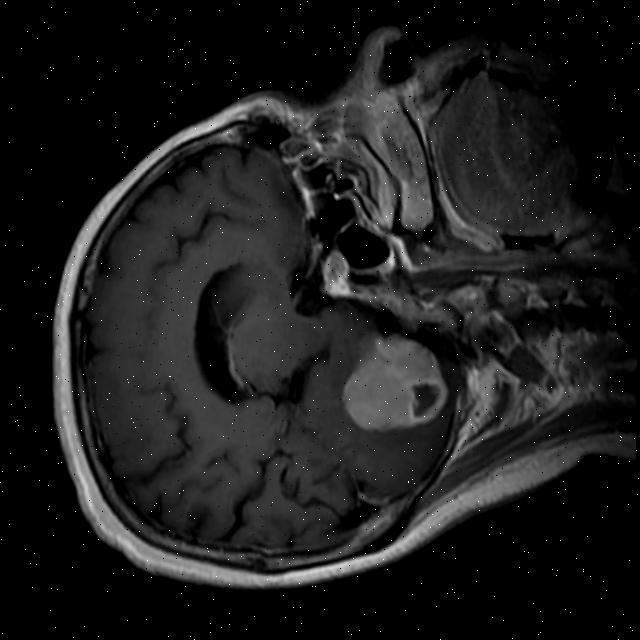Meningioma: (330, 318, 455, 446)
